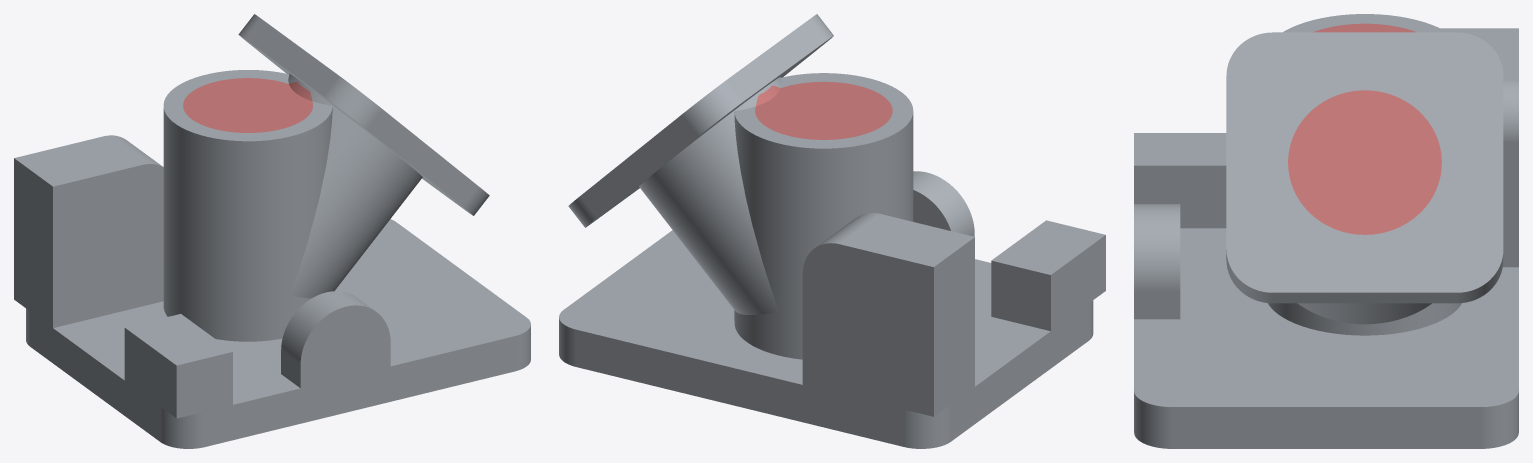
Rendered from step_07.glb.
3 views of the same model, side by side, from view 1: azimuth 30°, elevation 25°; view 2: azimuth 150°, elevation 25°; view 3: azimuth 270°, elevation 25° (orthographic). The views are drawn at different scales.
Visible parts, largest first — view 1: part__tube bracket, removed__tube bracket; view 2: part__tube bracket, removed__tube bracket; view 3: part__tube bracket, removed__tube bracket.
Part boxes in pixels (x1=…): part__tube bracket: x1=14, y1=14, x2=530, y2=448; removed__tube bracket: x1=183, y1=78, x2=312, y2=132; part__tube bracket: x1=559, y1=14, x2=1105, y2=448; removed__tube bracket: x1=755, y1=81, x2=892, y2=139; part__tube bracket: x1=1134, y1=14, x2=1518, y2=448; removed__tube bracket: x1=1288, y1=23, x2=1441, y2=234.
Size of the model in its own units: 65 by 47.73 by 50.
